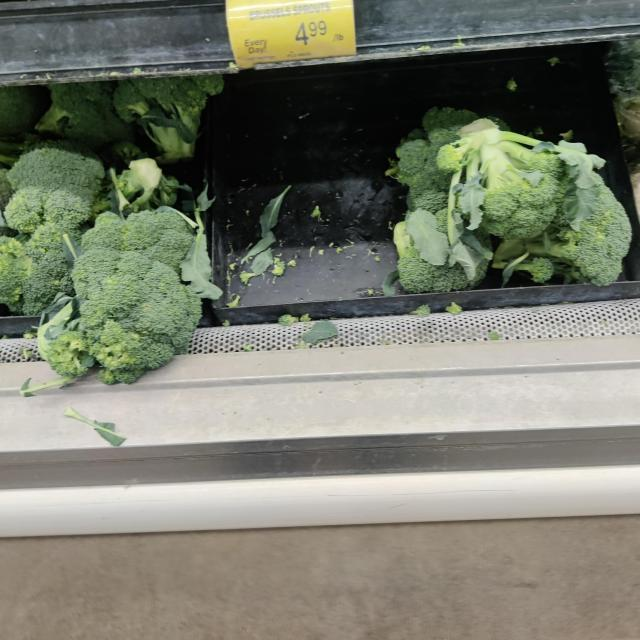Broccoli: (37, 220, 218, 392), (436, 114, 571, 250), (504, 164, 636, 297), (0, 124, 128, 242), (372, 184, 490, 296)
